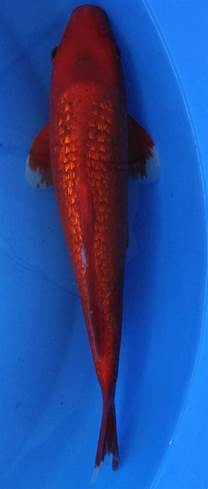red: (28, 6, 162, 473)
